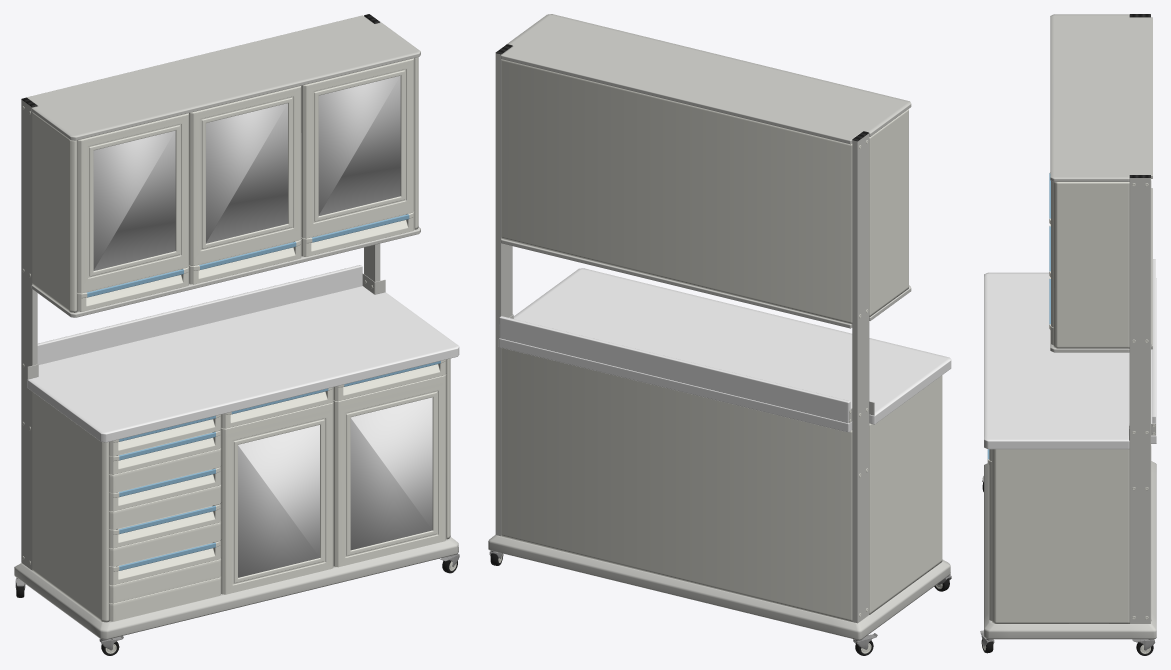
The model's file is cabinet.fbx.
3 renders of one model, left to right at view 1: azimuth 30°, elevation 25°; view 2: azimuth 150°, elevation 25°; view 3: azimuth 270°, elevation 25°, orthographic. The views are drawn at different scales.
Visible parts, largest first — view 1: Cabinet_whole, Cabinet_glass, Cabinet_top, Cabinet_frames, Cabinet_drawer_handle; view 2: Cabinet_whole, Cabinet_frames, Cabinet_top; view 3: Cabinet_whole, Cabinet_frames, Cabinet_top, Cabiner_Corners, Cabinet_drawer_handle.
Part boxes in pixels (box(x1,y1,x2,y2)): Cabinet_whole: box(22, 57, 456, 653); Cabinet_glass: box(93, 75, 432, 577); Cabinet_top: box(27, 265, 459, 442); Cabinet_frames: box(14, 15, 458, 639); Cabinet_drawer_handle: box(87, 214, 440, 570); Cabinet_whole: box(498, 59, 942, 653); Cabinet_frames: box(488, 14, 950, 640); Cabinet_top: box(498, 268, 951, 432); Cabinet_whole: box(982, 172, 1155, 653); Cabinet_frames: box(984, 14, 1156, 639); Cabinet_top: box(984, 259, 1156, 449); Cabiner_Corners: box(981, 14, 1153, 655); Cabinet_drawer_handle: box(987, 173, 1050, 459).
Size of the model in its own units: 6028 by 7803 by 2612.
